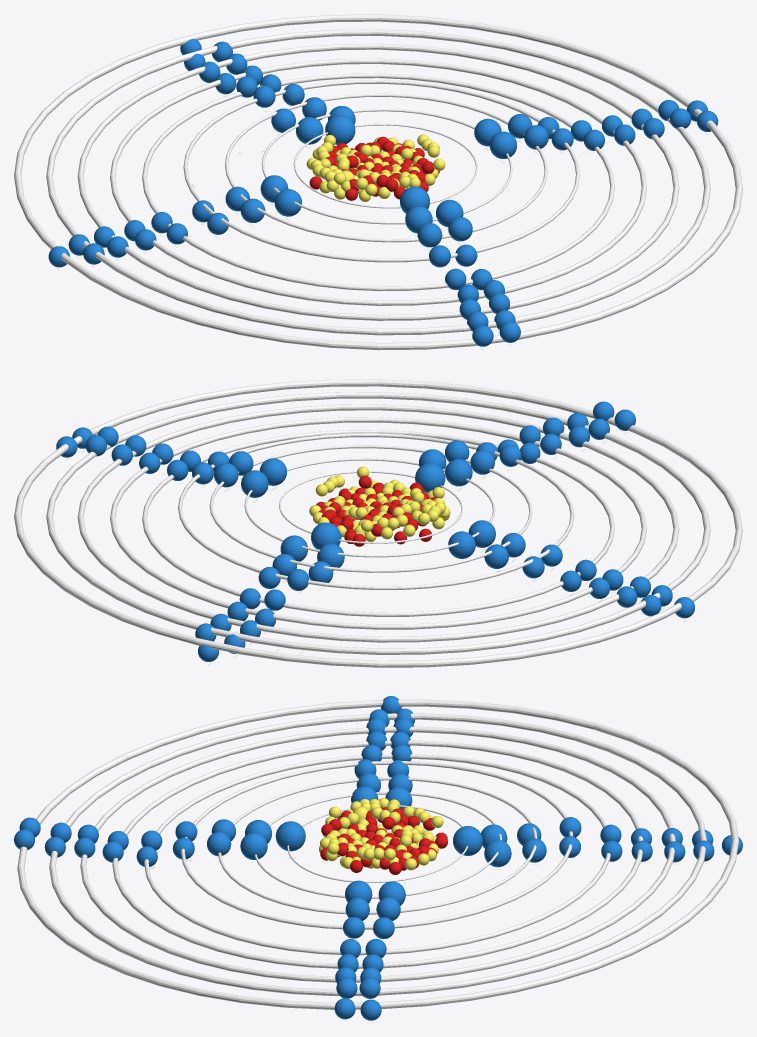
The picture shows the model from 3 angles, top to bottom: view 1: azimuth 30°, elevation 25°; view 2: azimuth 150°, elevation 25°; view 3: azimuth 270°, elevation 25°; orthographic projection.
Parts seen in each view (by area): view 1: Torus.009, Torus.008, Torus.007, Torus.006, Torus.005, Torus.004, Torus.003, Torus.002, Torus.001, g, g.005, g.003 (+2 smaller); view 2: Torus.009, Torus.008, Torus.007, Torus.006, Torus.005, Torus.004, Torus.003, Torus.002, Torus.001, g.001, g, g.006 (+8 smaller); view 3: Torus.009, Torus.008, Torus.007, Torus.006, Torus.005, Torus.004, Torus.003, Torus.002, g.001, g, Torus.001, g.007 (+1 smaller).
Boxes of the visible parts, box(x1,y1,x2,y2) form: Torus.009: box(14, 14, 742, 350); Torus.008: box(46, 29, 710, 335); Torus.007: box(77, 43, 679, 320); Torus.006: box(110, 58, 646, 305); Torus.005: box(142, 73, 614, 291); Torus.004: box(183, 80, 579, 262); Torus.003: box(225, 93, 547, 242); Torus.002: box(261, 109, 512, 224); Torus.001: box(293, 123, 477, 208); g: box(325, 115, 355, 144); g.005: box(489, 131, 516, 158); g.003: box(274, 189, 301, 216); Torus.009: box(14, 379, 742, 667); Torus.008: box(46, 392, 710, 654); Torus.007: box(77, 404, 679, 642); Torus.006: box(110, 417, 646, 629); Torus.005: box(142, 430, 614, 616); Torus.004: box(178, 433, 574, 589); Torus.003: box(209, 445, 532, 572); Torus.002: box(244, 458, 495, 557); Torus.001: box(279, 471, 462, 543); g.001: box(415, 463, 445, 492); g: box(311, 522, 341, 549); g.006: box(445, 459, 472, 486); Torus.009: box(17, 699, 738, 1009); Torus.008: box(49, 713, 706, 995); Torus.007: box(80, 726, 675, 982); Torus.006: box(112, 740, 643, 968); Torus.005: box(144, 754, 610, 955); Torus.004: box(181, 761, 573, 929); Torus.003: box(218, 777, 537, 914); Torus.002: box(254, 792, 502, 898); g.001: box(275, 821, 305, 851); g: box(453, 826, 482, 855); Torus.001: box(287, 805, 468, 883); g.007: box(240, 832, 267, 859).
Bounding box in the file's own units: 24.35 × 2.85 × 24.01.
